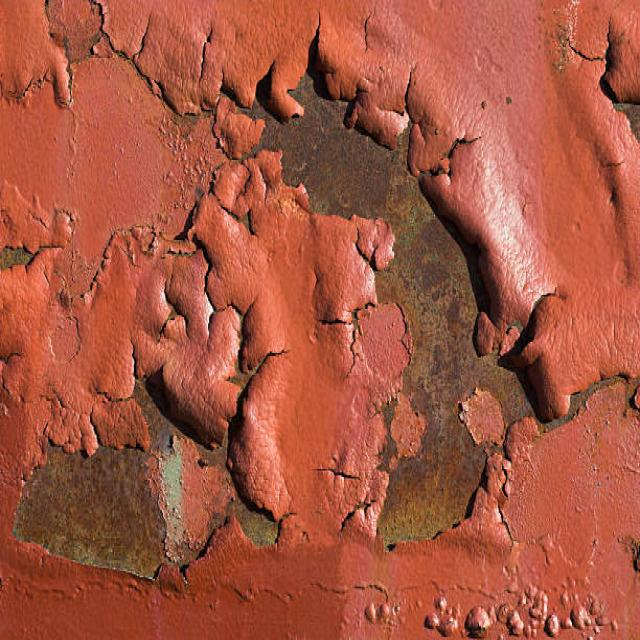paint-peeling: (5, 2, 639, 611), (7, 175, 89, 286)
